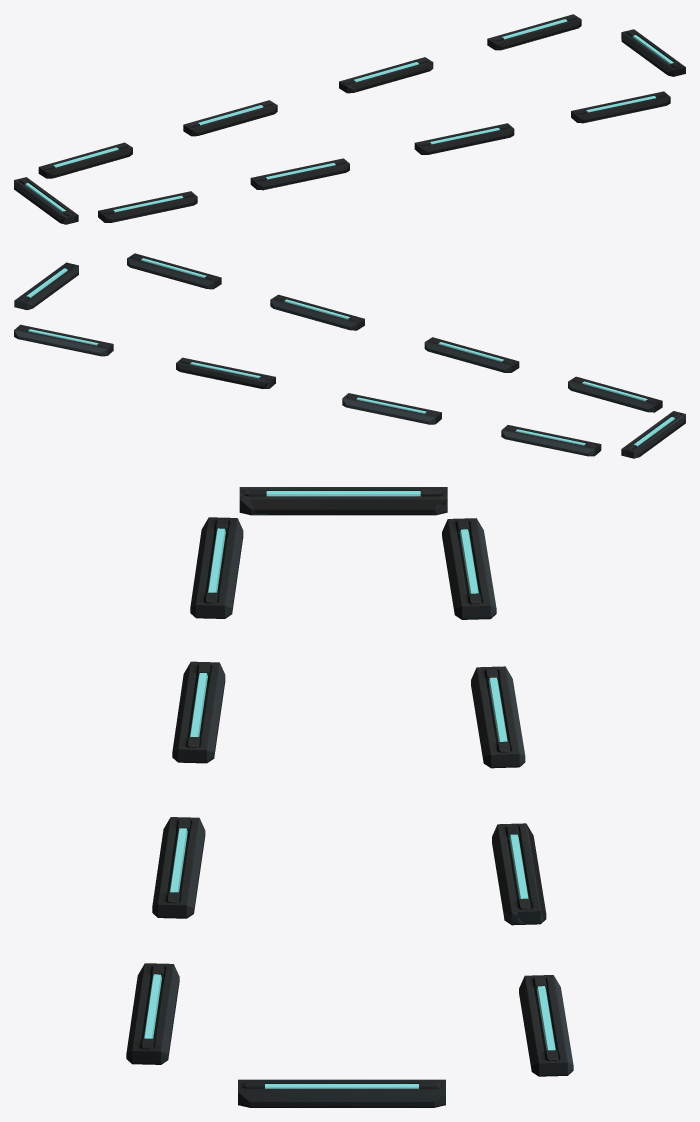
Rendered from SciFi_Conf_Room_TableProjector.FBX.
The picture shows the model from 3 angles, top to bottom: view 1: azimuth 30°, elevation 25°; view 2: azimuth 150°, elevation 25°; view 3: azimuth 270°, elevation 25°; orthographic projection. The views are drawn at different scales.
Parts seen in each view (by area): view 1: SciFi_Conf_Room_TableProjector; view 2: SciFi_Conf_Room_TableProjector; view 3: SciFi_Conf_Room_TableProjector.
Part boxes in pixels (left/top/right/bottom): SciFi_Conf_Room_TableProjector: left=14, top=14, right=685, bottom=224; SciFi_Conf_Room_TableProjector: left=14, top=253, right=685, bottom=458; SciFi_Conf_Room_TableProjector: left=126, top=487, right=573, bottom=1107.
Bounding box in the file's own units: 3799 × 42.49 × 1176.
